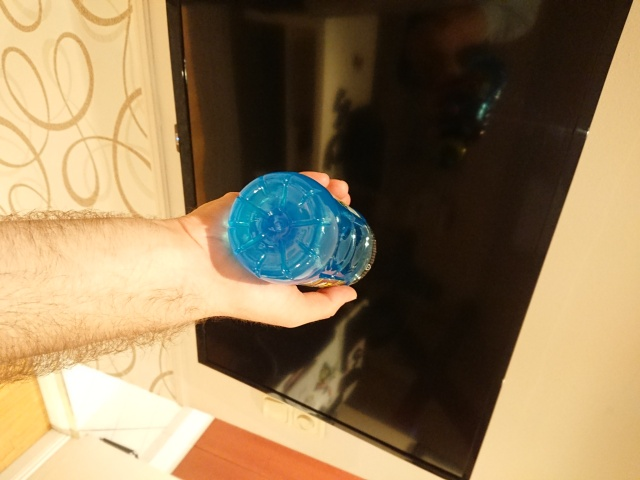Vindi Iso Sport Forest Strawberries 500mL: (225, 168, 379, 292)
